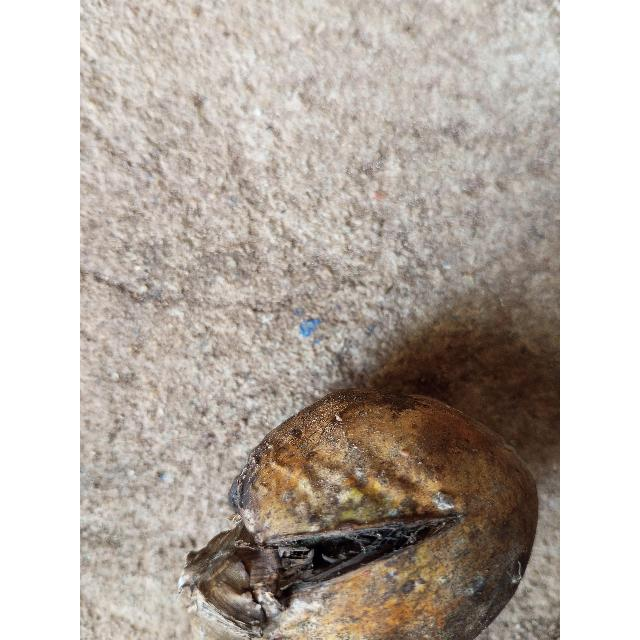damaged: (180, 378, 540, 640)
